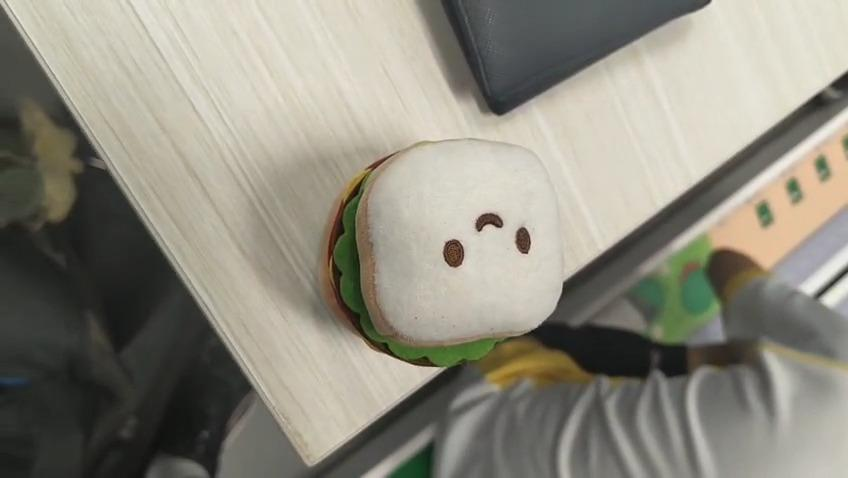objects: (321, 134, 566, 388)
